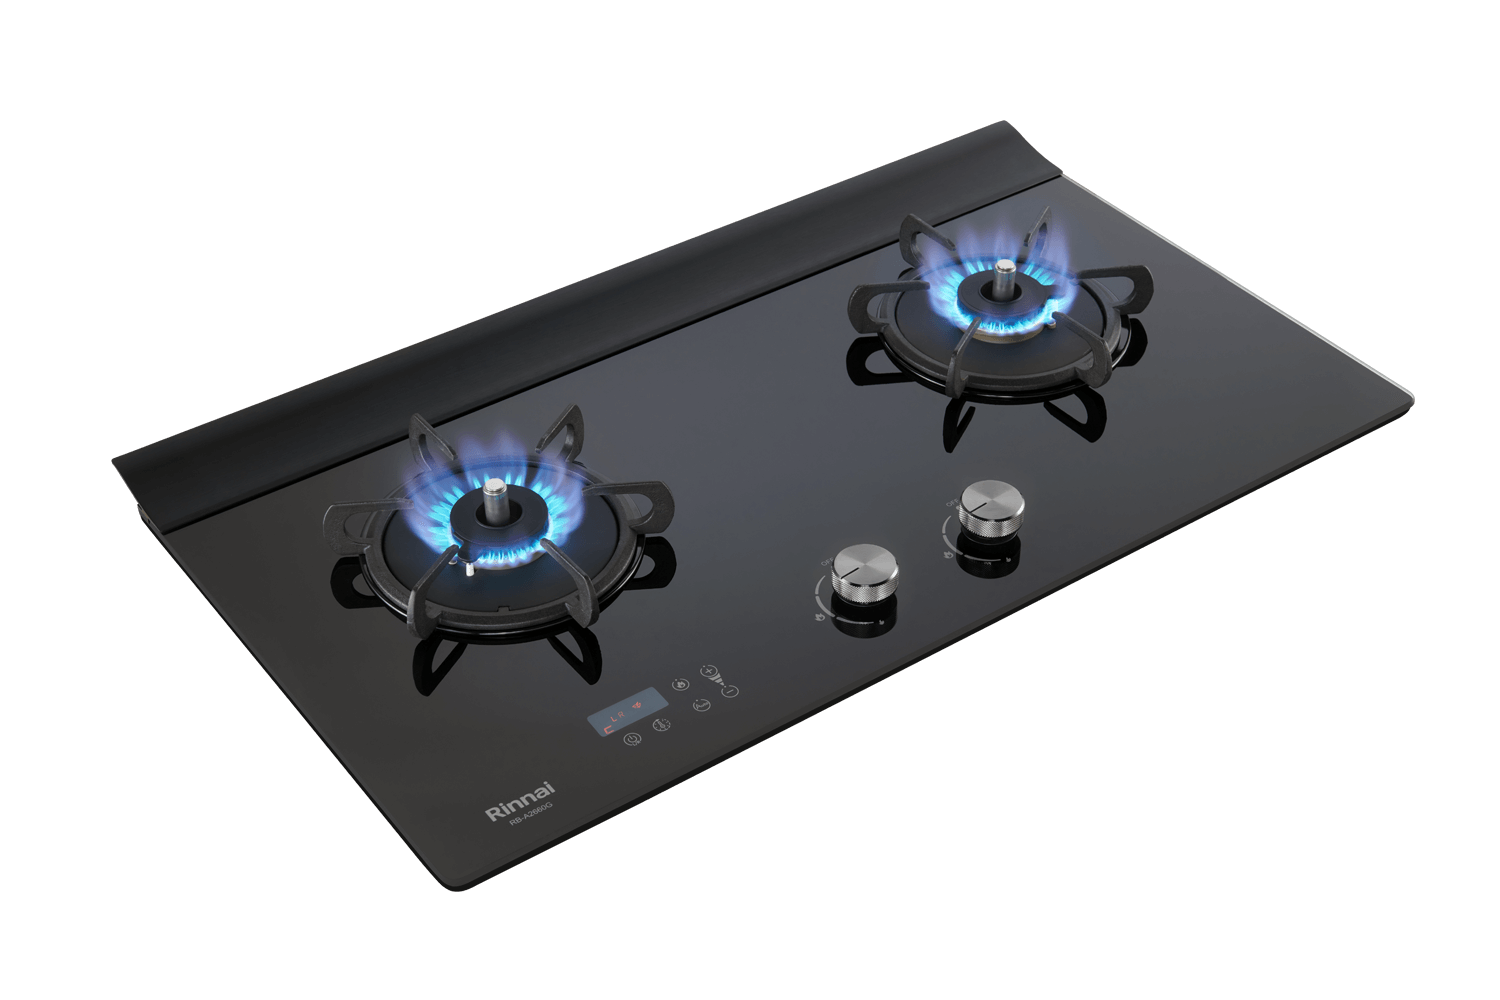gasoven: (106, 113, 1427, 896)
